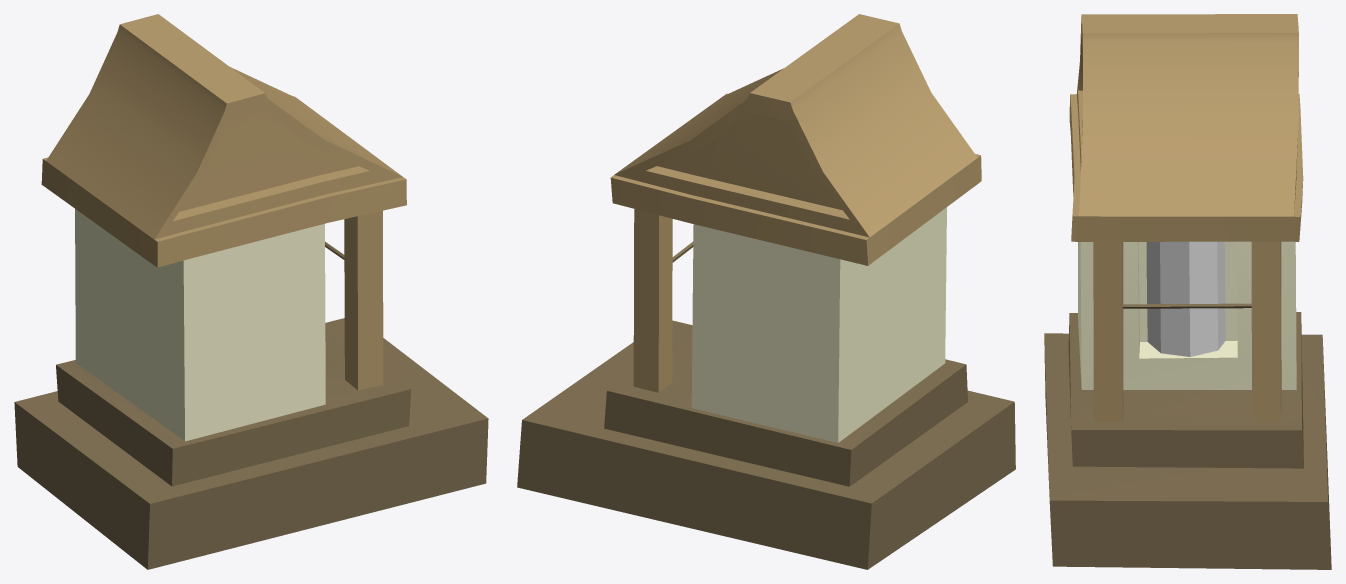
File: stone_shrine.fbx
3 renders of one model, left to right at view 1: azimuth 30°, elevation 25°; view 2: azimuth 150°, elevation 25°; view 3: azimuth 270°, elevation 25°, orthographic.
Visible parts, largest first — view 1: stone shrine; view 2: stone shrine; view 3: stone shrine.
Part boxes in pixels (bbox=[...]): stone shrine: bbox=[14, 14, 488, 569]; stone shrine: bbox=[517, 14, 1015, 569]; stone shrine: bbox=[1044, 14, 1331, 569].
Size of the model in its own units: 52.34 by 61.49 by 36.99.
